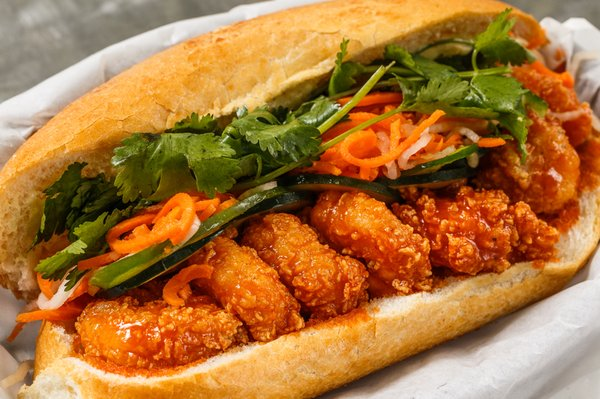soup: (2, 1, 586, 386), (0, 4, 372, 380)
